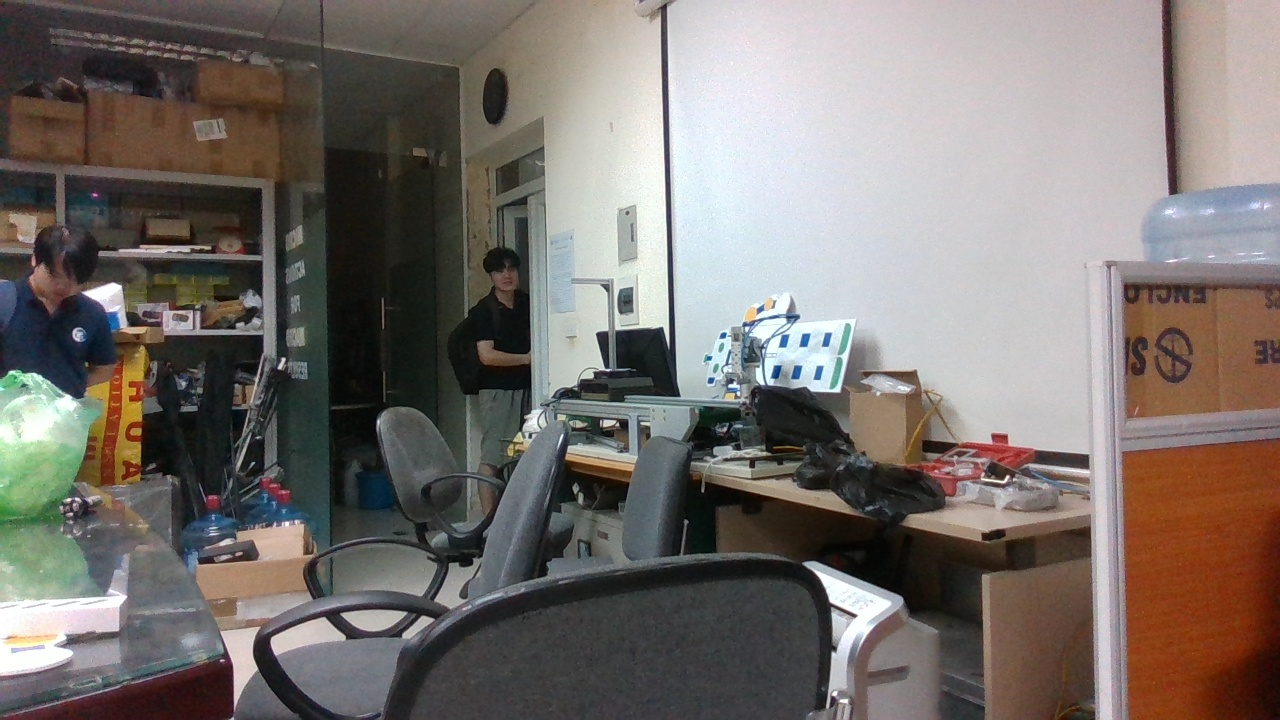person: (9, 230, 136, 466)
